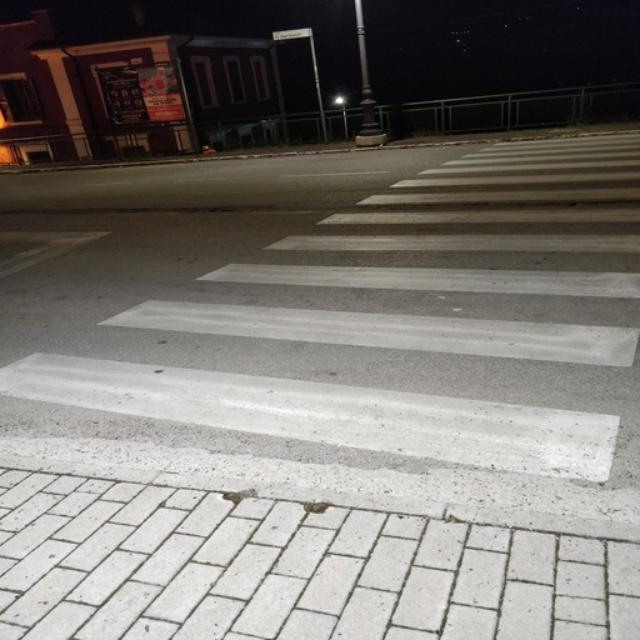sidewalk: (3, 135, 640, 490)
